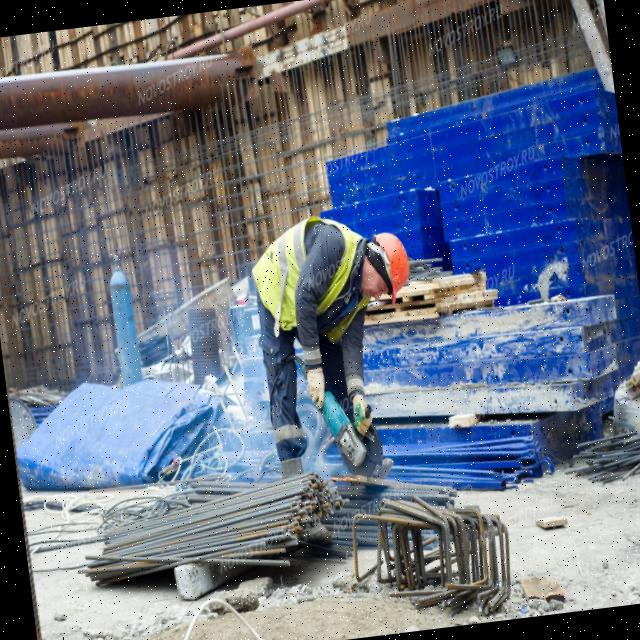Helmet: (373, 228, 413, 310)
Jacket: (254, 220, 381, 325)
